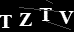T: (37, 7, 53, 22), (1, 14, 12, 29)
V: (58, 10, 74, 25)
Z: (18, 12, 31, 26)
